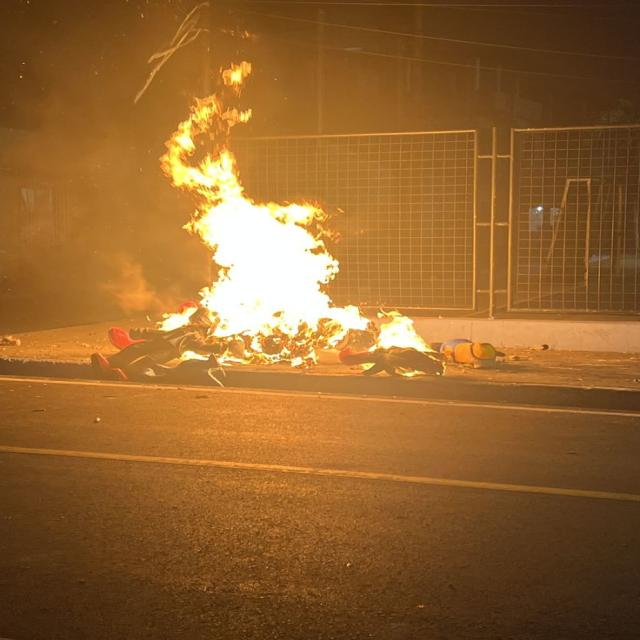fire: (159, 58, 369, 354), (372, 309, 428, 354)
